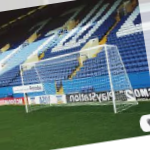goals: (19, 43, 138, 114)
